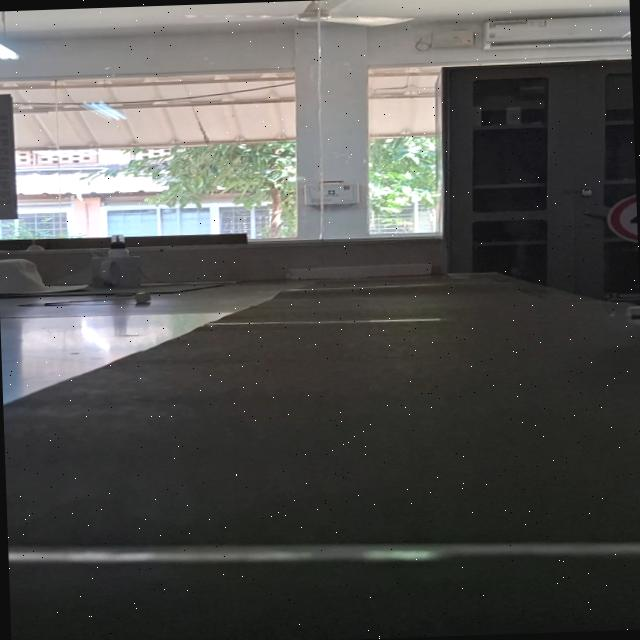Speed40: (602, 188, 638, 247)
